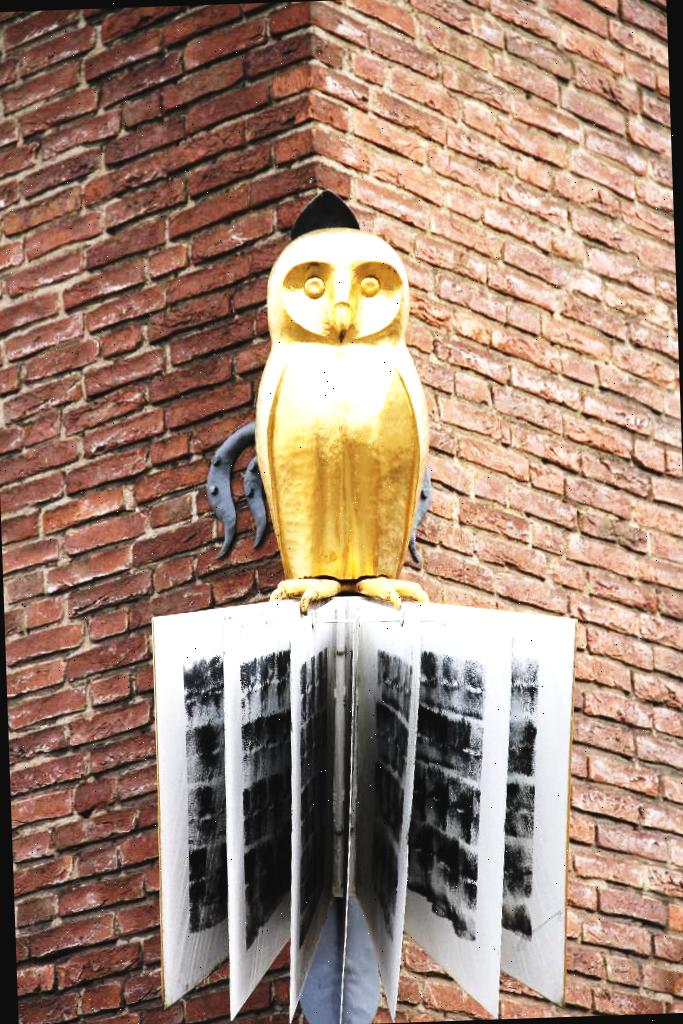Owl: (188, 174, 466, 632)
